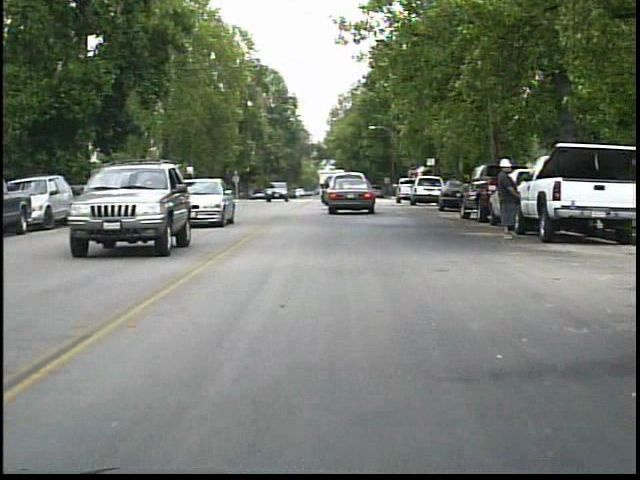person: (492, 154, 524, 242)
